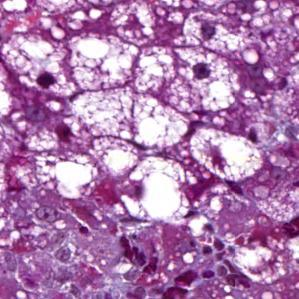ballooning: (134, 44, 241, 115), (118, 154, 199, 227), (4, 33, 76, 99), (187, 126, 263, 184)
